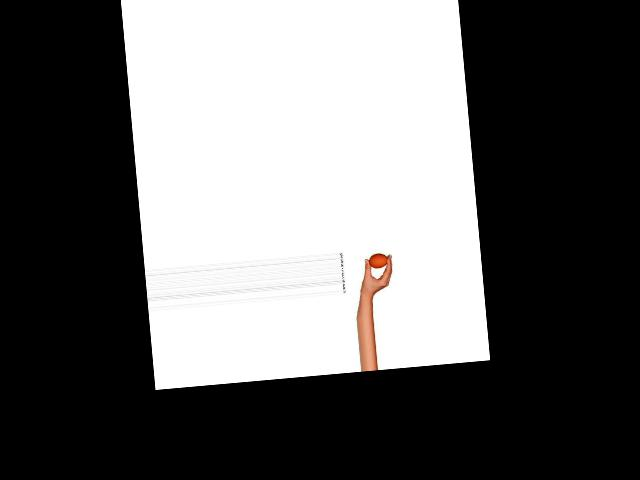egg: (367, 252, 388, 268)
